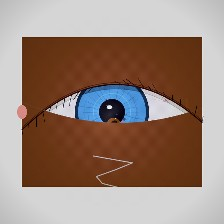foreign_body_visible: (91, 106, 136, 143)
